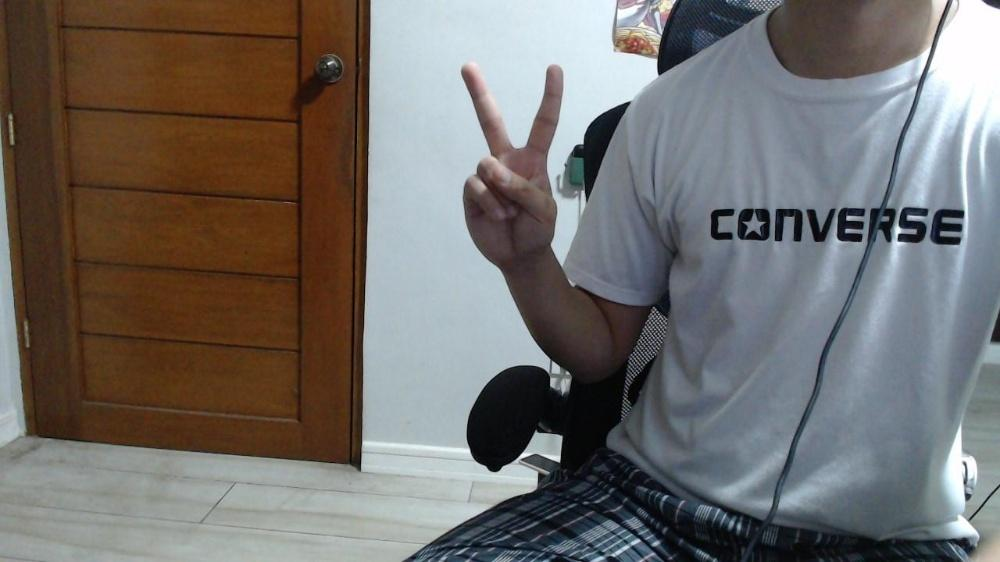v: (461, 61, 564, 252)
